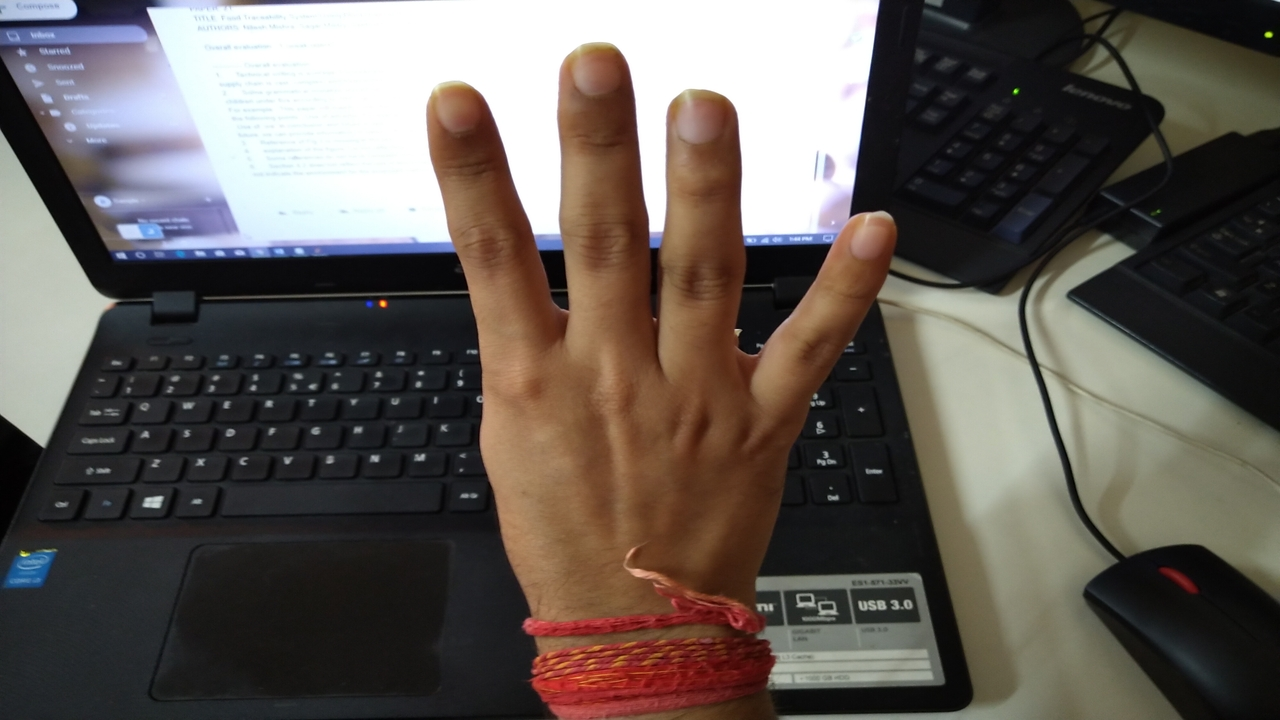fingertip: (554, 42, 630, 112), (660, 90, 740, 156), (416, 80, 492, 142), (842, 206, 902, 266)
